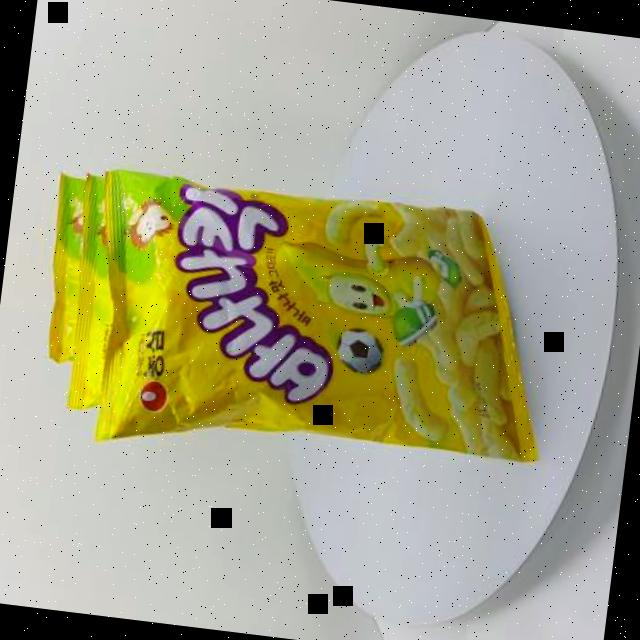snack_bag: (22, 127, 580, 500)
